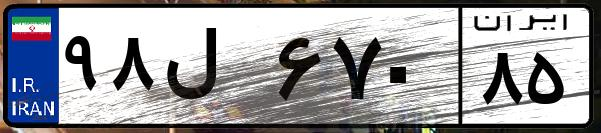0: (385, 28, 445, 110)
5: (525, 38, 570, 115)
6: (270, 28, 330, 110)
7: (330, 28, 385, 110)
8: (475, 38, 525, 113), (110, 28, 158, 98)
9: (57, 26, 110, 100)
ل: (158, 20, 270, 120)
